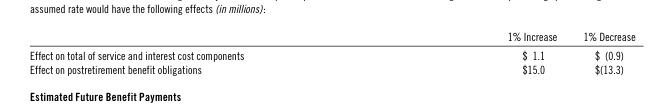table: (28, 28, 634, 75)
table column: (28, 28, 375, 75), (375, 28, 569, 75), (569, 28, 634, 75)
table column header: (28, 28, 634, 45)
table row: (28, 28, 634, 45), (28, 45, 634, 61), (28, 61, 634, 75)
